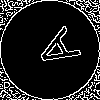A: (25, 25, 82, 78)
